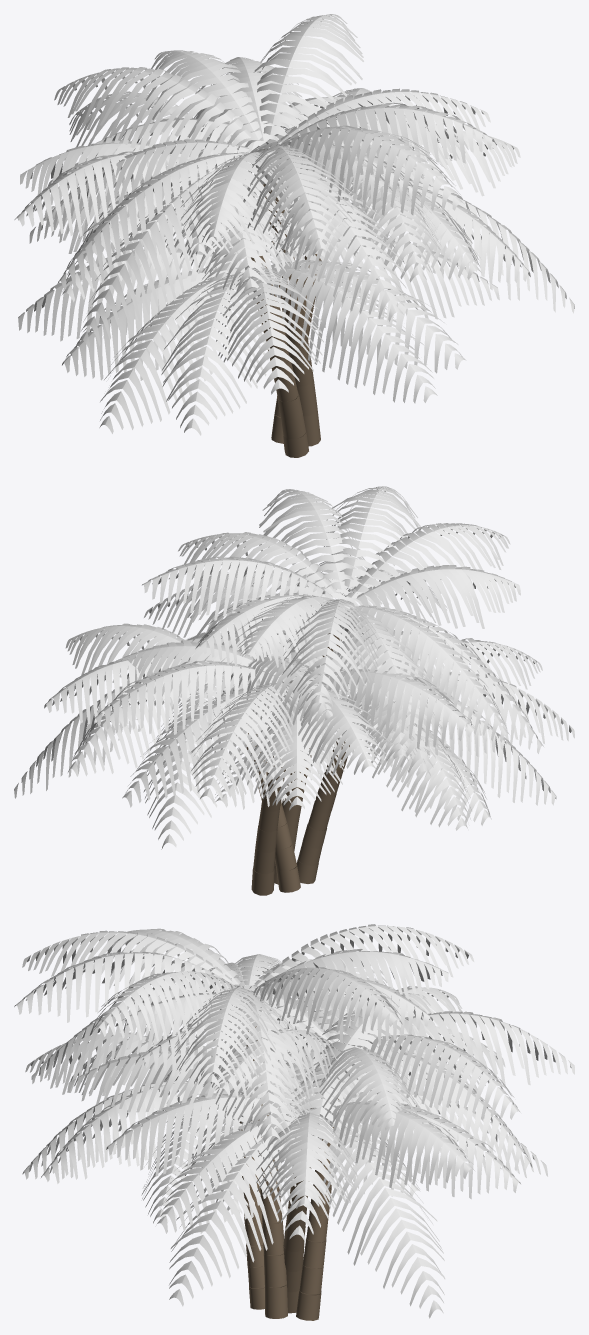
File: m_areca_901.fbx
3 renders of one model, top to bottom at view 1: azimuth 30°, elevation 25°; view 2: azimuth 150°, elevation 25°; view 3: azimuth 270°, elevation 25°, orthographic. The views are drawn at different scales.
Visible parts, largest first — view 1: m_areca_901; view 2: m_areca_901; view 3: m_areca_901.
Boxes of the visible parts, box(x1,y1,x2,y2) form: m_areca_901: box(14, 14, 574, 457); m_areca_901: box(14, 486, 574, 895); m_areca_901: box(14, 924, 574, 1320).
Size of the model in its own units: 1587 by 1188 by 1687.
